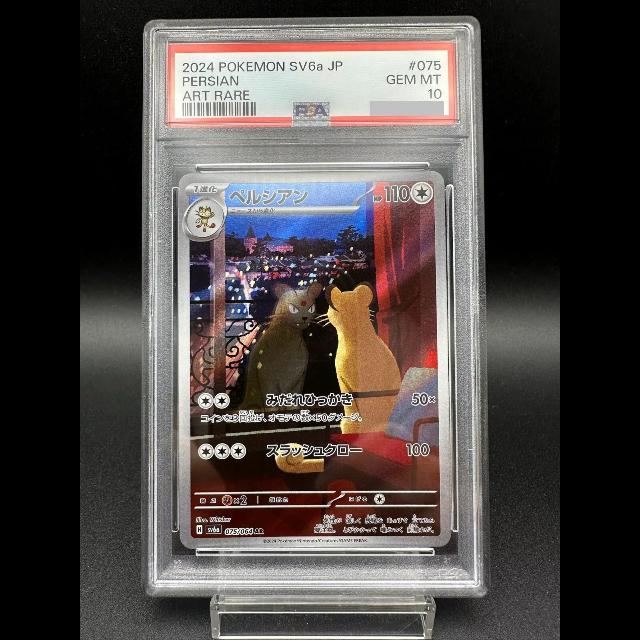card: (177, 169, 452, 549)
psa_label: (165, 42, 459, 125)
psa_slab: (141, 16, 491, 598)
